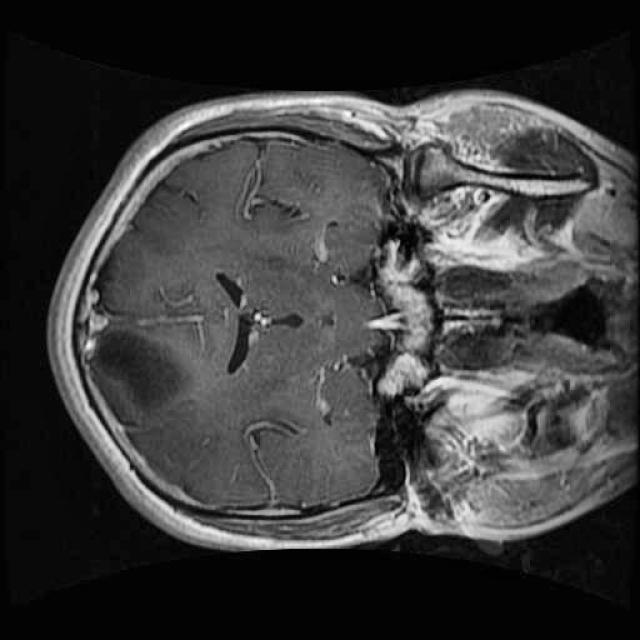Non-Tumor: (73, 312, 214, 430)
